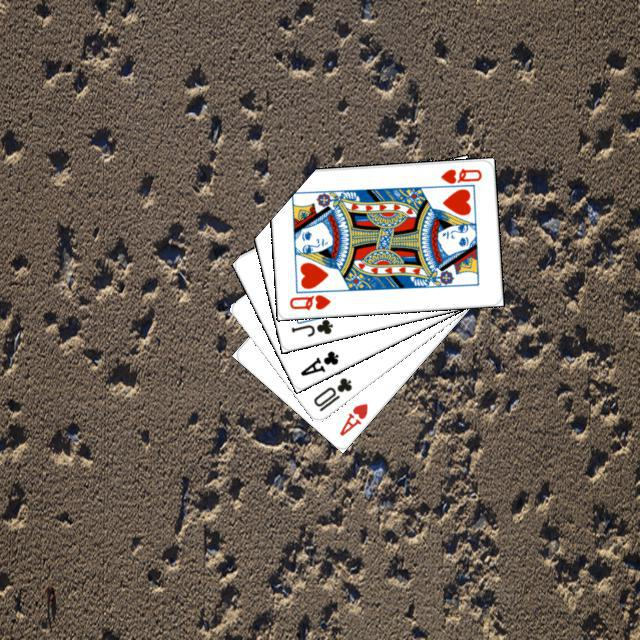10c: (308, 373, 354, 413)
Ac: (295, 346, 340, 378)
Ah: (334, 398, 370, 438)
Jc: (286, 314, 335, 339)
Qh: (431, 163, 483, 190), (284, 290, 332, 312)
